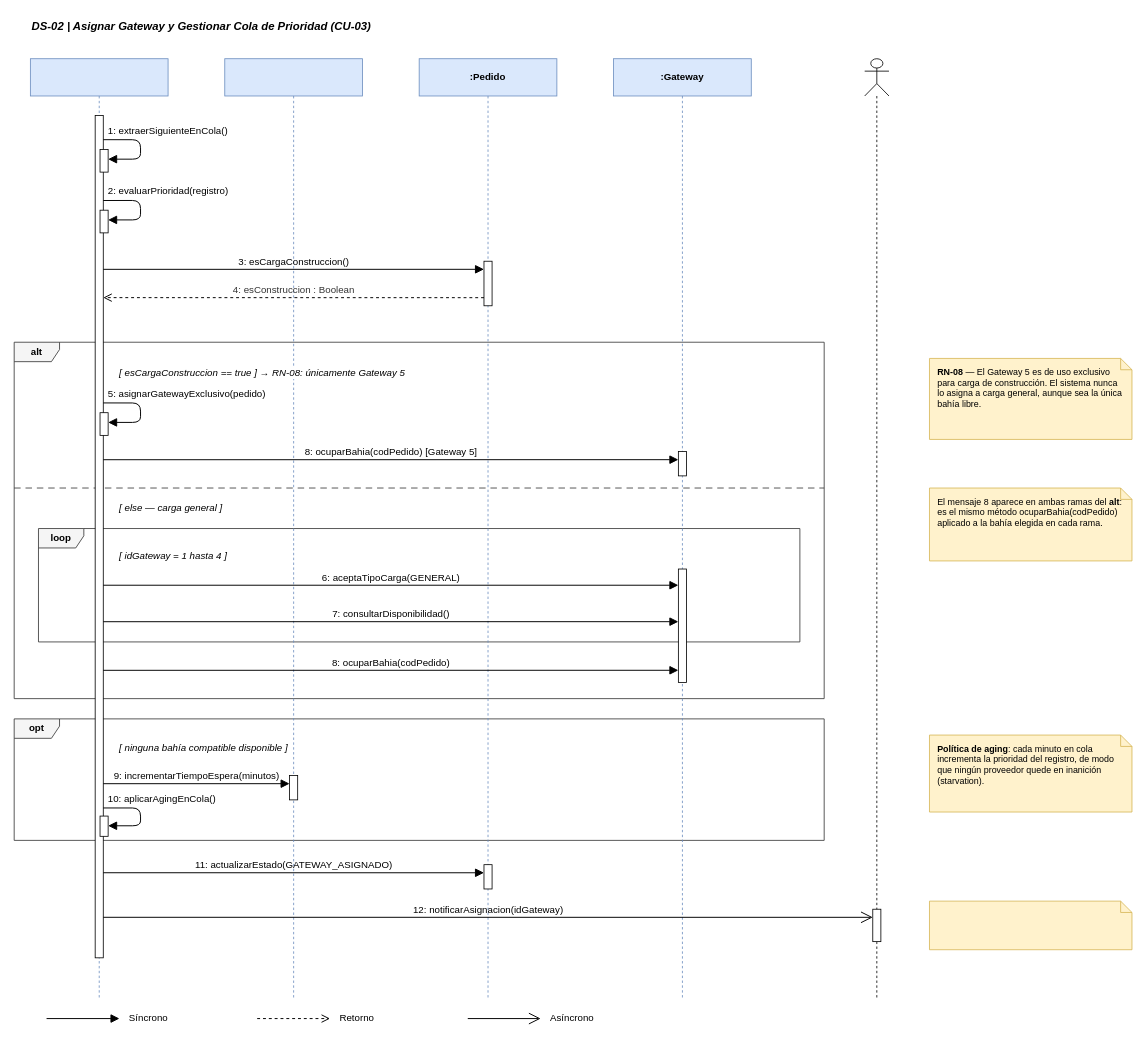
Image size: 1146x1044. Some labels were removed from this diagram. The box of each missing label's shape, as (x1, y1, x2, y2) in pixels:
:MotorAsignacionEDA0: (30, 58, 168, 998)
:Operador: (864, 58, 889, 998)
:RegistroGarita: (224, 58, 362, 998)
Mensaje 12 asíncrono (punta abierta) dirigido al actor Operador de garita.: (929, 900, 1132, 950)
